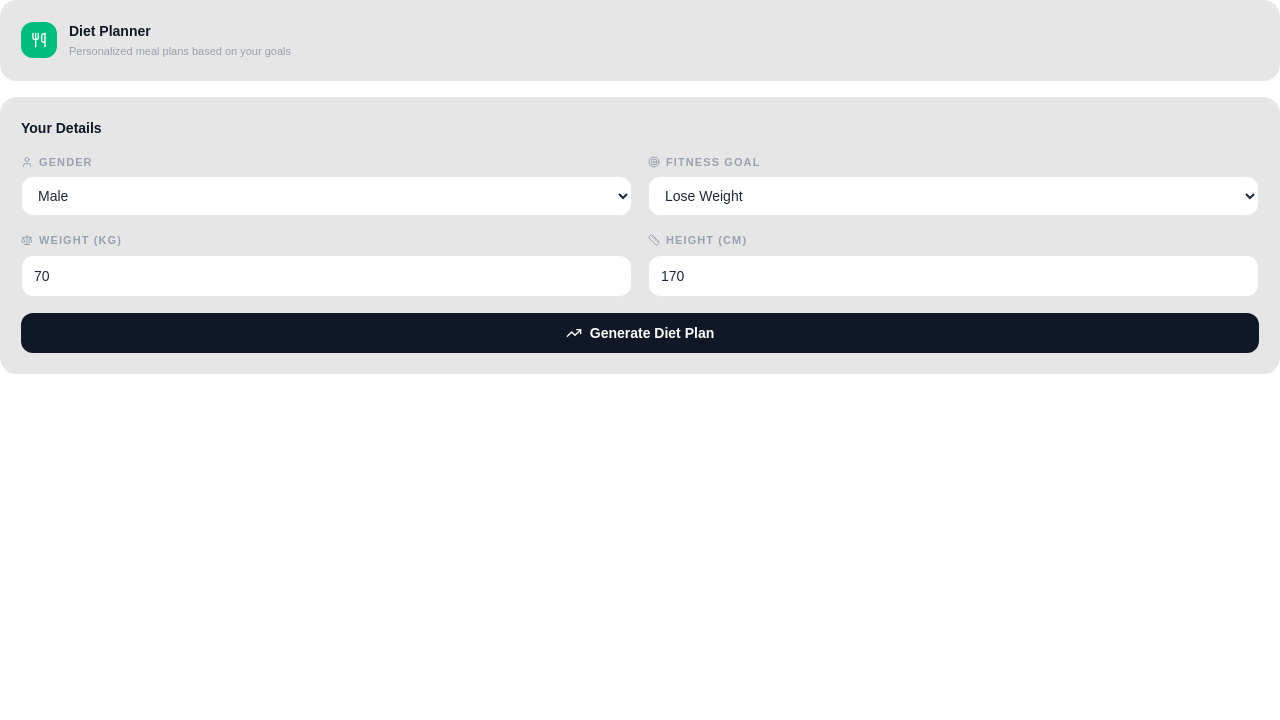
it: hides results after clicking Reset
Check: the heading "Diet Planner" is shown, box left=69, top=23, right=151, bottom=39
Step 1. Select "Male" in the dropdown labelled "Gender" → (326, 196), box left=21, top=176, right=632, bottom=216
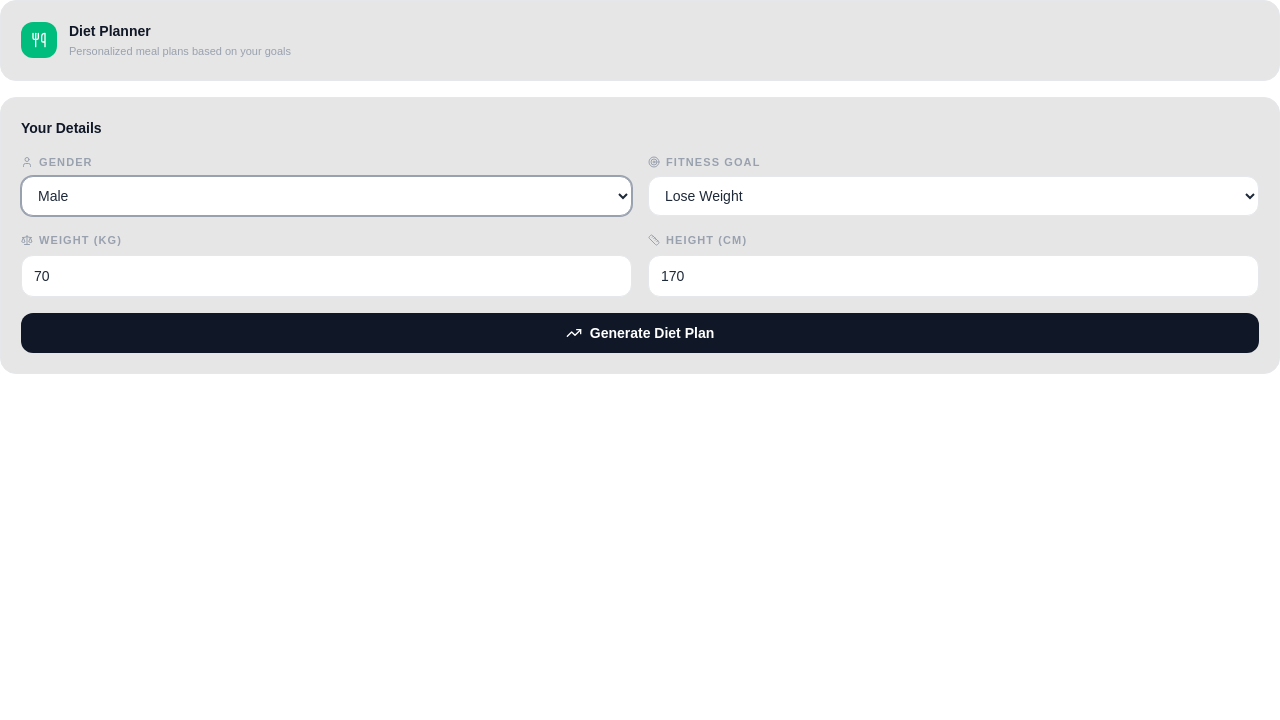
Step 2. Select "Lose Weight" in the dropdown labelled "Fitness Goal" → (954, 196), box left=648, top=176, right=1259, bottom=216
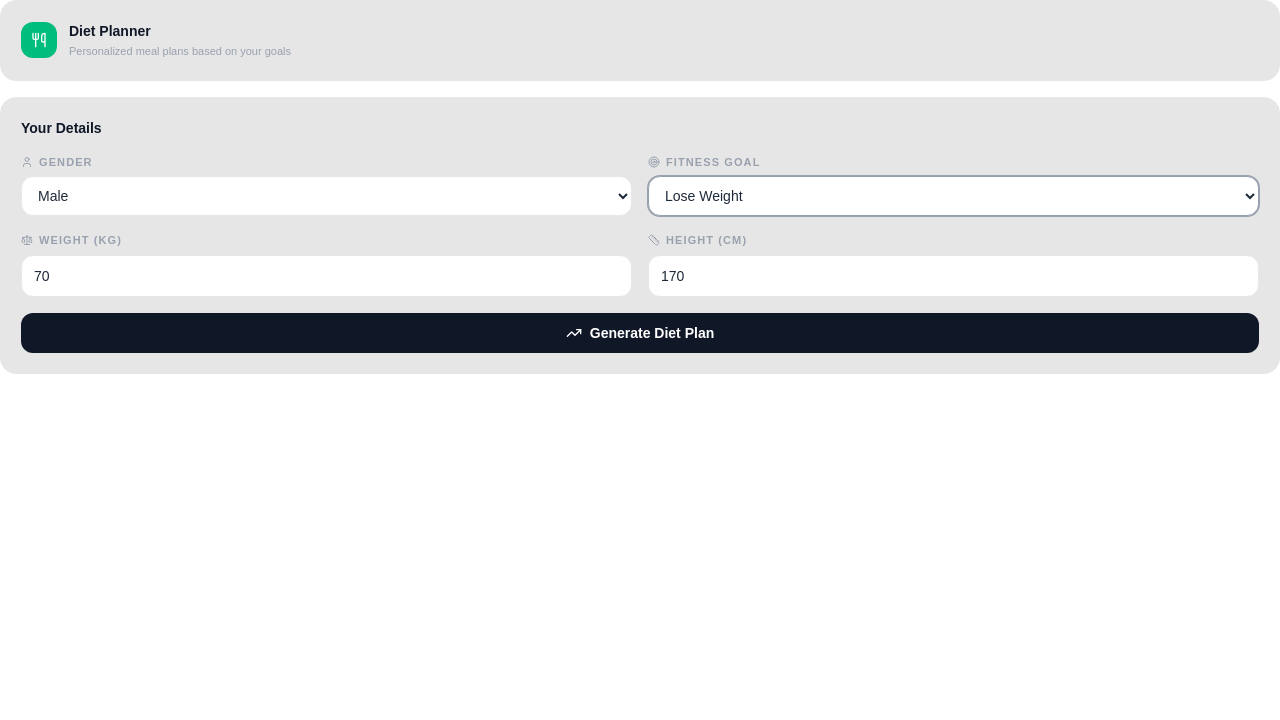
Step 3. Click the button "Generate Diet Plan" → (640, 332), box left=21, top=312, right=1259, bottom=352
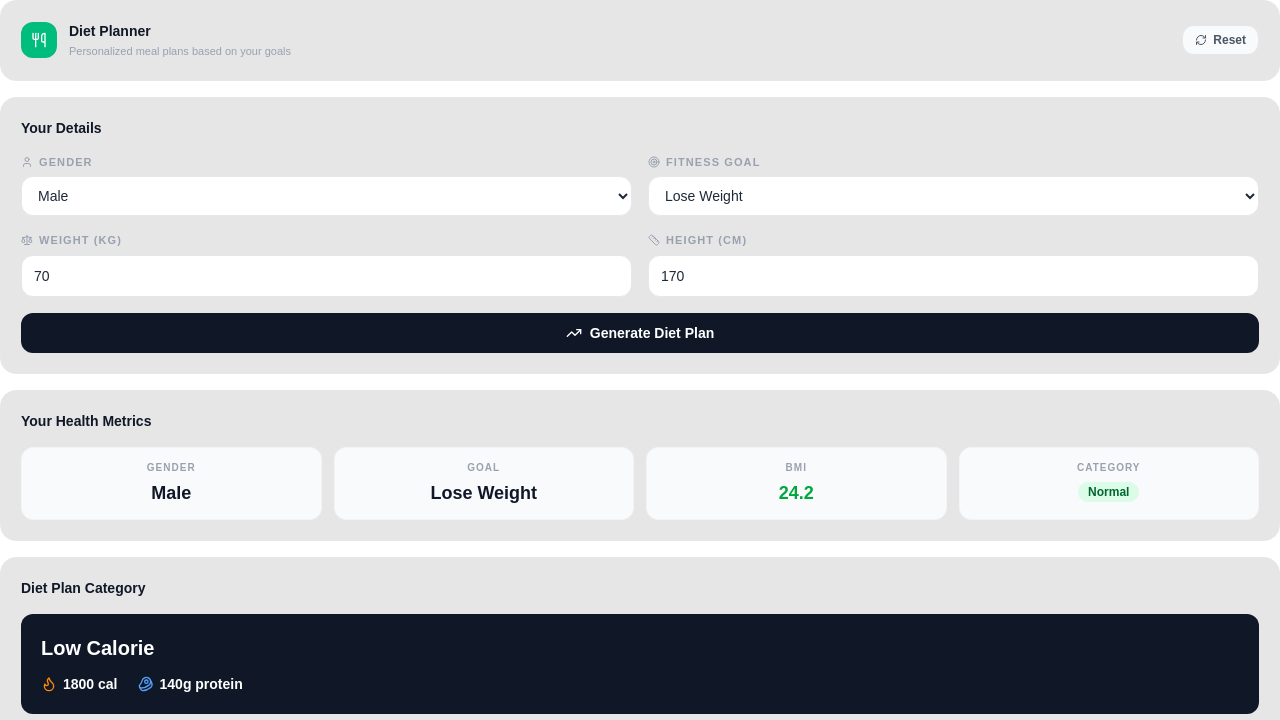
Check: the text "Your Health Metrics" is shown, box left=21, top=412, right=151, bottom=428
Step 4. Click the button "Reset" → (1221, 40), box left=1182, top=25, right=1259, bottom=55
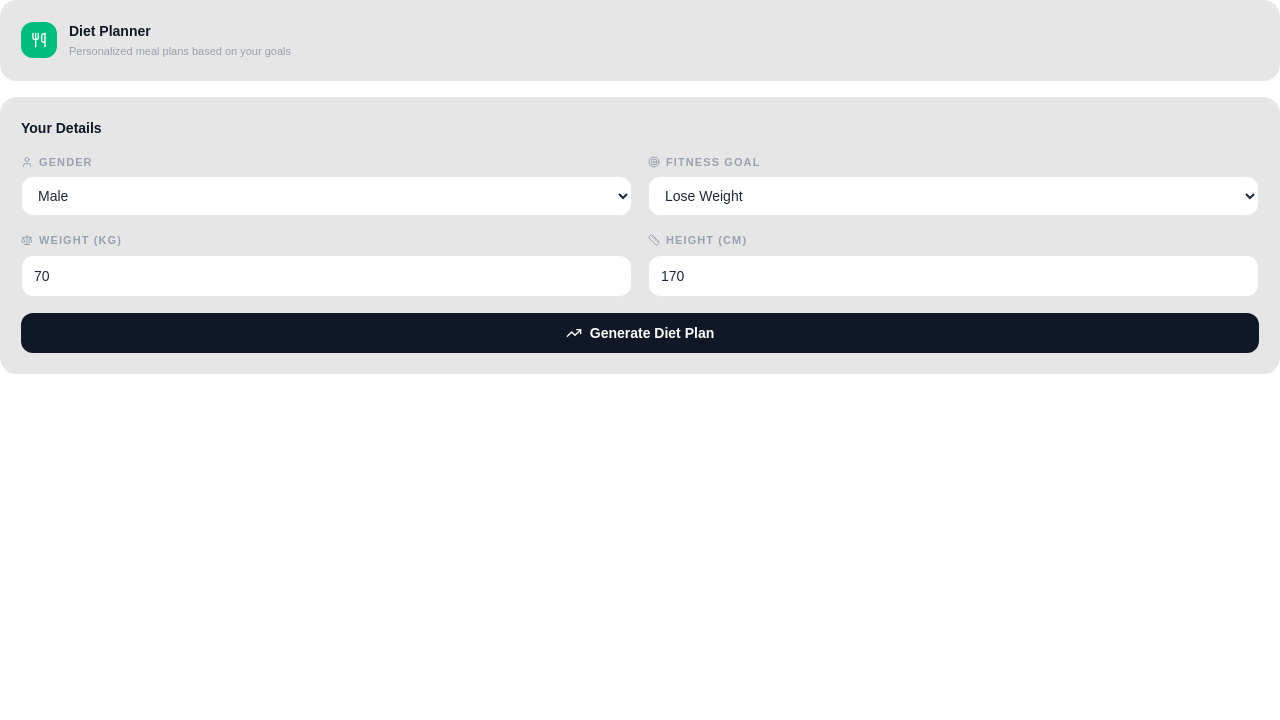
Check: the text "Your Health Metrics" is gone
